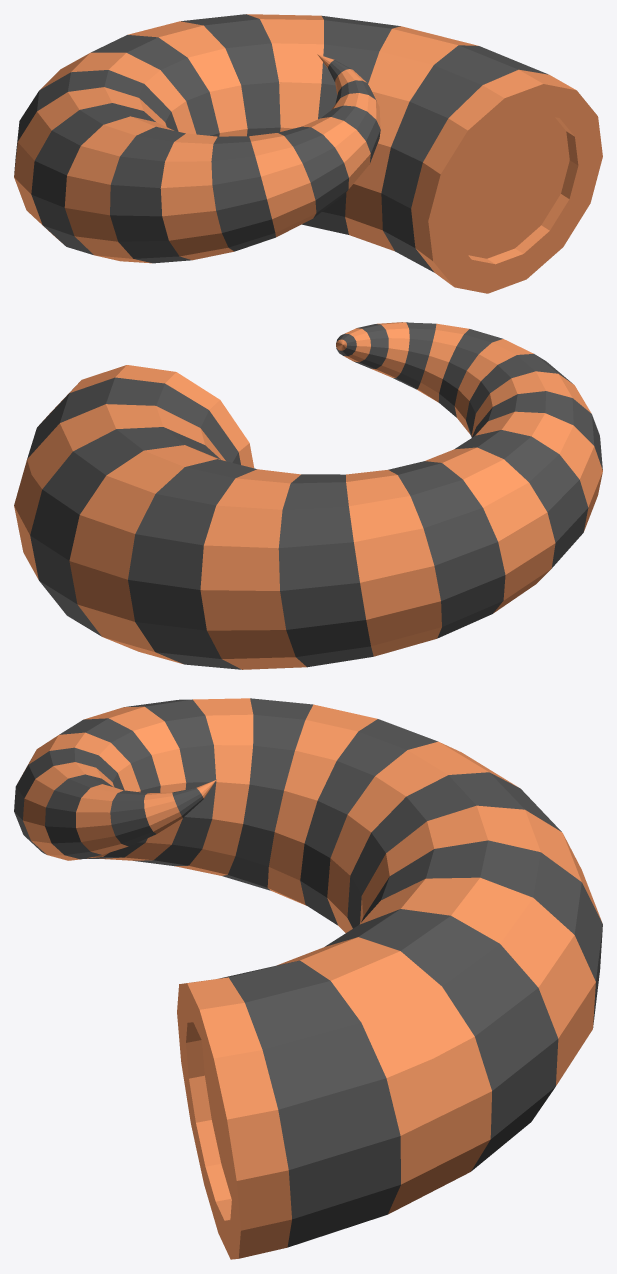
Rendered from Ingredient_horn_1.fbx.
3 views of the same model, one above another, from view 1: azimuth 30°, elevation 25°; view 2: azimuth 150°, elevation 25°; view 3: azimuth 270°, elevation 25° (orthographic). The views are drawn at different scales.
Visible parts, largest first — view 1: Horn#1.001; view 2: Horn#1.001; view 3: Horn#1.001.
Part boxes in pixels (left/top/right/bottom): Horn#1.001: left=14, top=14, right=602, bottom=293; Horn#1.001: left=14, top=322, right=602, bottom=669; Horn#1.001: left=14, top=698, right=602, bottom=1259.
Bounding box in the file's own units: 32.14 × 15.99 × 24.4.
